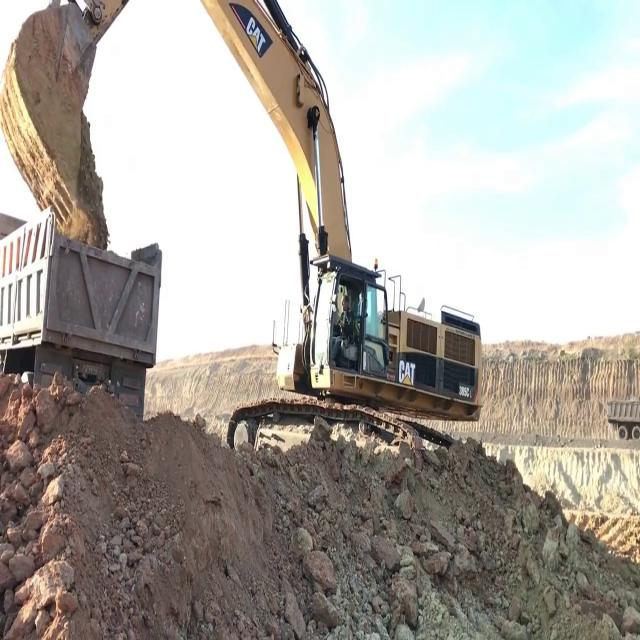excavator: (1, 1, 491, 464)
